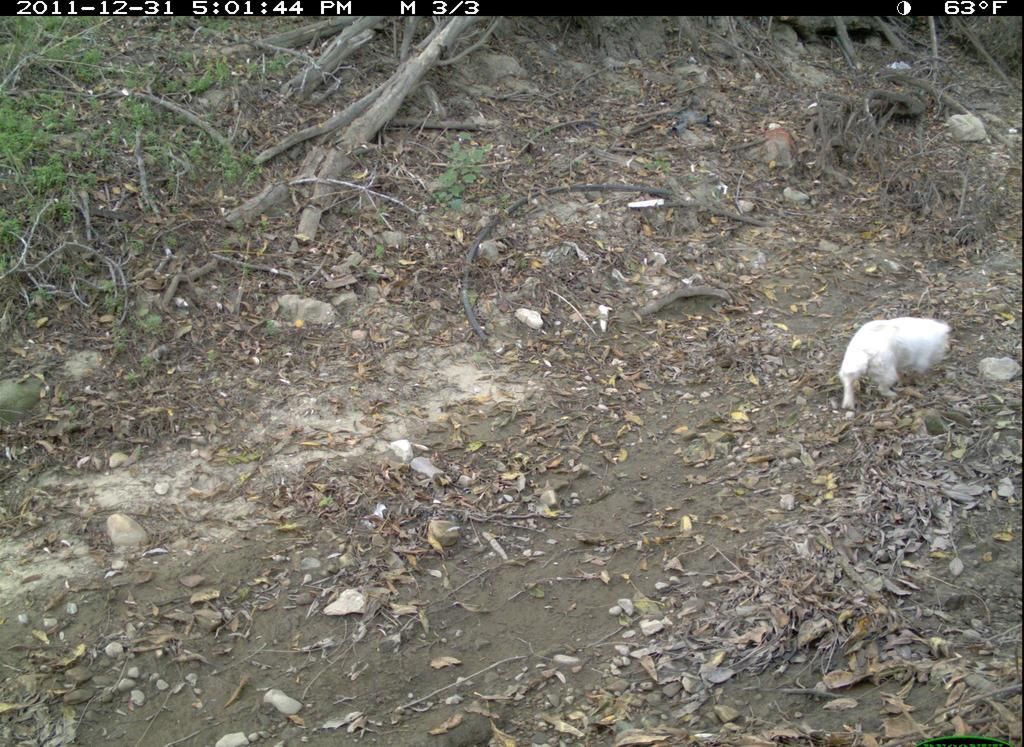dog: (826, 313, 961, 417)
